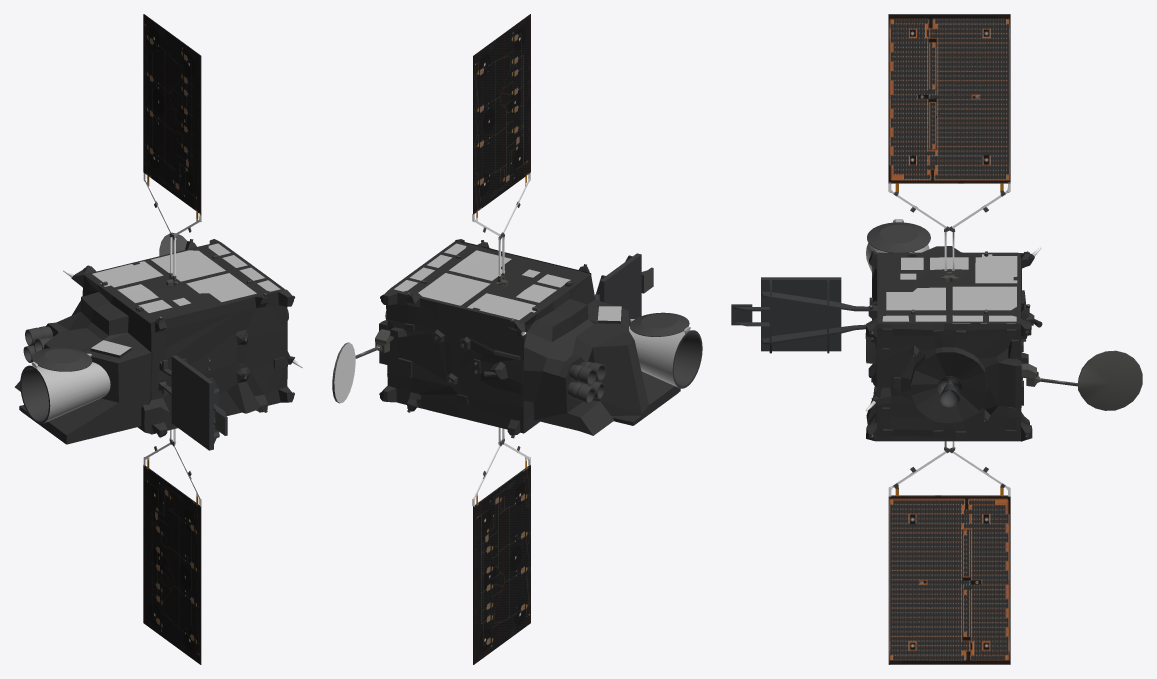
The model's file is MTGI.glb.
3 renders of one model, left to right at view 1: azimuth 30°, elevation 25°; view 2: azimuth 150°, elevation 25°; view 3: azimuth 270°, elevation 25°, orthographic. The views are drawn at different scales.
Visible parts, largest first — view 1: MTGIlowpo; view 2: MTGIlowpo; view 3: MTGIlowpo.
Boxes of the visible parts, box(x1,y1,x2,y2) form: MTGIlowpo: box(14, 14, 302, 664); MTGIlowpo: box(332, 14, 702, 664); MTGIlowpo: box(731, 14, 1142, 664).
Size of the model in its own units: 5.29 by 11.21 by 6.43.
Materials: 4 (1 with a texture image).
